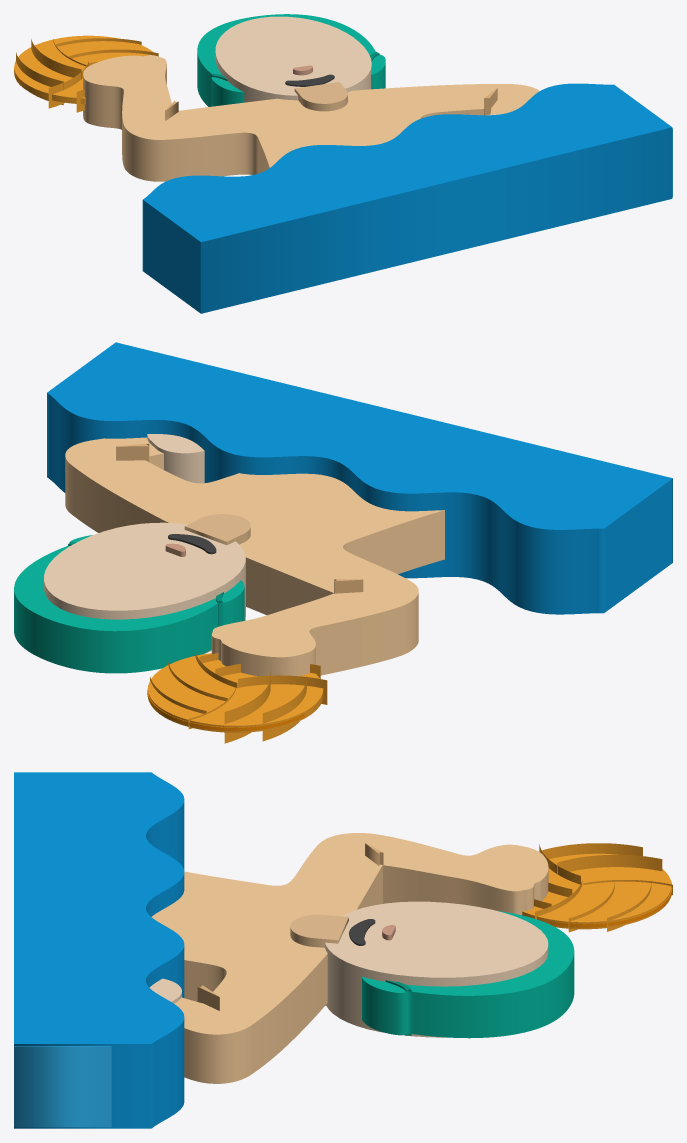
The model's file is emoji_u1f93d_1f3fb_200d_2642.glb.
The picture shows the model from 3 angles, top to bottom: view 1: azimuth 30°, elevation 25°; view 2: azimuth 150°, elevation 25°; view 3: azimuth 270°, elevation 25°; orthographic projection. The views are drawn at different scales.
Visible parts, largest first — view 1: emoji_u1f93d_1f3fb_200d_2642; view 2: emoji_u1f93d_1f3fb_200d_2642; view 3: emoji_u1f93d_1f3fb_200d_2642.
Part boxes in pixels (x1,y1,x2,y2): emoji_u1f93d_1f3fb_200d_2642: (14,14,672,313); emoji_u1f93d_1f3fb_200d_2642: (14,342,672,743); emoji_u1f93d_1f3fb_200d_2642: (14,772,672,1128).
Bounding box in the file's own units: 0.0331 × 0.0048 × 0.0339.
